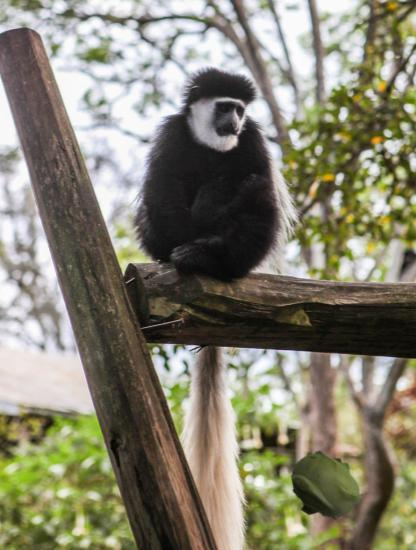Kohlrabi: (287, 449, 365, 527)
